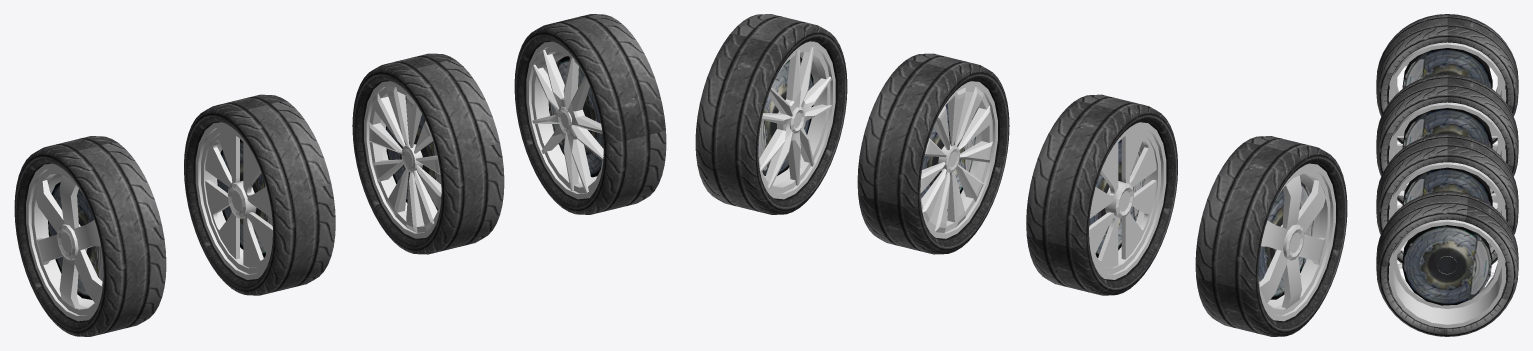
Rendered from tires.FBX.
3 renders of one model, left to right at view 1: azimuth 30°, elevation 25°; view 2: azimuth 150°, elevation 25°; view 3: azimuth 270°, elevation 25°, orthographic. The views are drawn at different scales.
Parts seen in each view (by area): view 1: Tube030, Tube036, Tube034, Tube038, Line024, Line025, Line022, Line026, Tube039, Tube031, Tube037, Tube035 (+4 smaller); view 2: Tube030, Tube036, Tube034, Tube038, Line024, Line025, Line022, Line026, Tube039, Tube031, Tube037, Tube035 (+4 smaller); view 3: Tube030, Cylinder028, Tube034, Tube038, Tube036, Tube031, Cylinder032, Cylinder031, Cylinder030, Tube035, Tube037, Tube039 (+4 smaller).
Part boxes in pixels (bbox=[...]): Tube030: bbox=[514, 14, 666, 214]; Tube036: bbox=[184, 94, 335, 295]; Tube034: bbox=[352, 53, 504, 254]; Tube038: bbox=[14, 136, 166, 336]; Line024: bbox=[369, 86, 441, 232]; Line025: bbox=[201, 127, 272, 273]; Line022: bbox=[531, 46, 603, 197]; Line026: bbox=[31, 168, 103, 315]; Tube039: bbox=[26, 163, 103, 321]; Tube031: bbox=[526, 41, 603, 199]; Tube037: bbox=[195, 122, 272, 279]; Tube035: bbox=[364, 81, 441, 238]; Tube030: bbox=[695, 14, 847, 214]; Tube036: bbox=[1026, 94, 1177, 295]; Tube034: bbox=[857, 53, 1009, 254]; Tube038: bbox=[1195, 136, 1347, 336]; Line024: bbox=[920, 86, 992, 232]; Line025: bbox=[1089, 127, 1160, 273]; Line022: bbox=[758, 41, 831, 193]; Line026: bbox=[1258, 168, 1330, 315]; Tube039: bbox=[1258, 163, 1335, 321]; Tube031: bbox=[758, 41, 835, 199]; Tube037: bbox=[1089, 122, 1166, 279]; Tube035: bbox=[920, 81, 997, 238]; Tube030: bbox=[1376, 191, 1518, 336]; Cylinder028: bbox=[1402, 225, 1492, 305]; Tube034: bbox=[1376, 133, 1518, 264]; Tube038: bbox=[1376, 14, 1518, 143]; Tube036: bbox=[1376, 74, 1518, 204]; Tube031: bbox=[1389, 219, 1505, 328]; Cylinder032: bbox=[1402, 48, 1492, 88]; Cylinder031: bbox=[1402, 108, 1492, 148]; Cylinder030: bbox=[1402, 167, 1492, 205]; Tube035: bbox=[1389, 162, 1505, 252]; Tube037: bbox=[1389, 102, 1505, 193]; Tube039: bbox=[1389, 42, 1505, 102].
Size of the model in its own units: 491 by 148 by 148.
2 materials, 2 textured.
